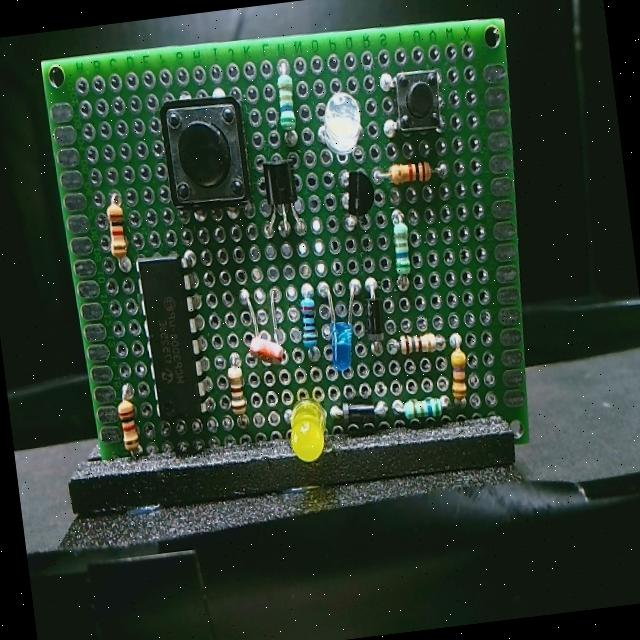IC: (128, 245, 222, 430)
cds: (236, 278, 293, 376)
diode: (359, 269, 395, 369), (325, 394, 392, 438)
led: (313, 272, 372, 378), (280, 384, 336, 474), (309, 82, 368, 166)
resistor: (370, 152, 452, 202), (99, 183, 138, 284), (386, 380, 454, 434), (386, 204, 424, 300), (266, 51, 302, 150), (295, 272, 329, 375), (108, 380, 144, 471), (440, 326, 477, 411), (221, 346, 253, 431), (384, 324, 446, 360)
switch: (151, 74, 260, 223), (372, 61, 454, 148)
transistor: (253, 158, 319, 250), (328, 162, 379, 235)
